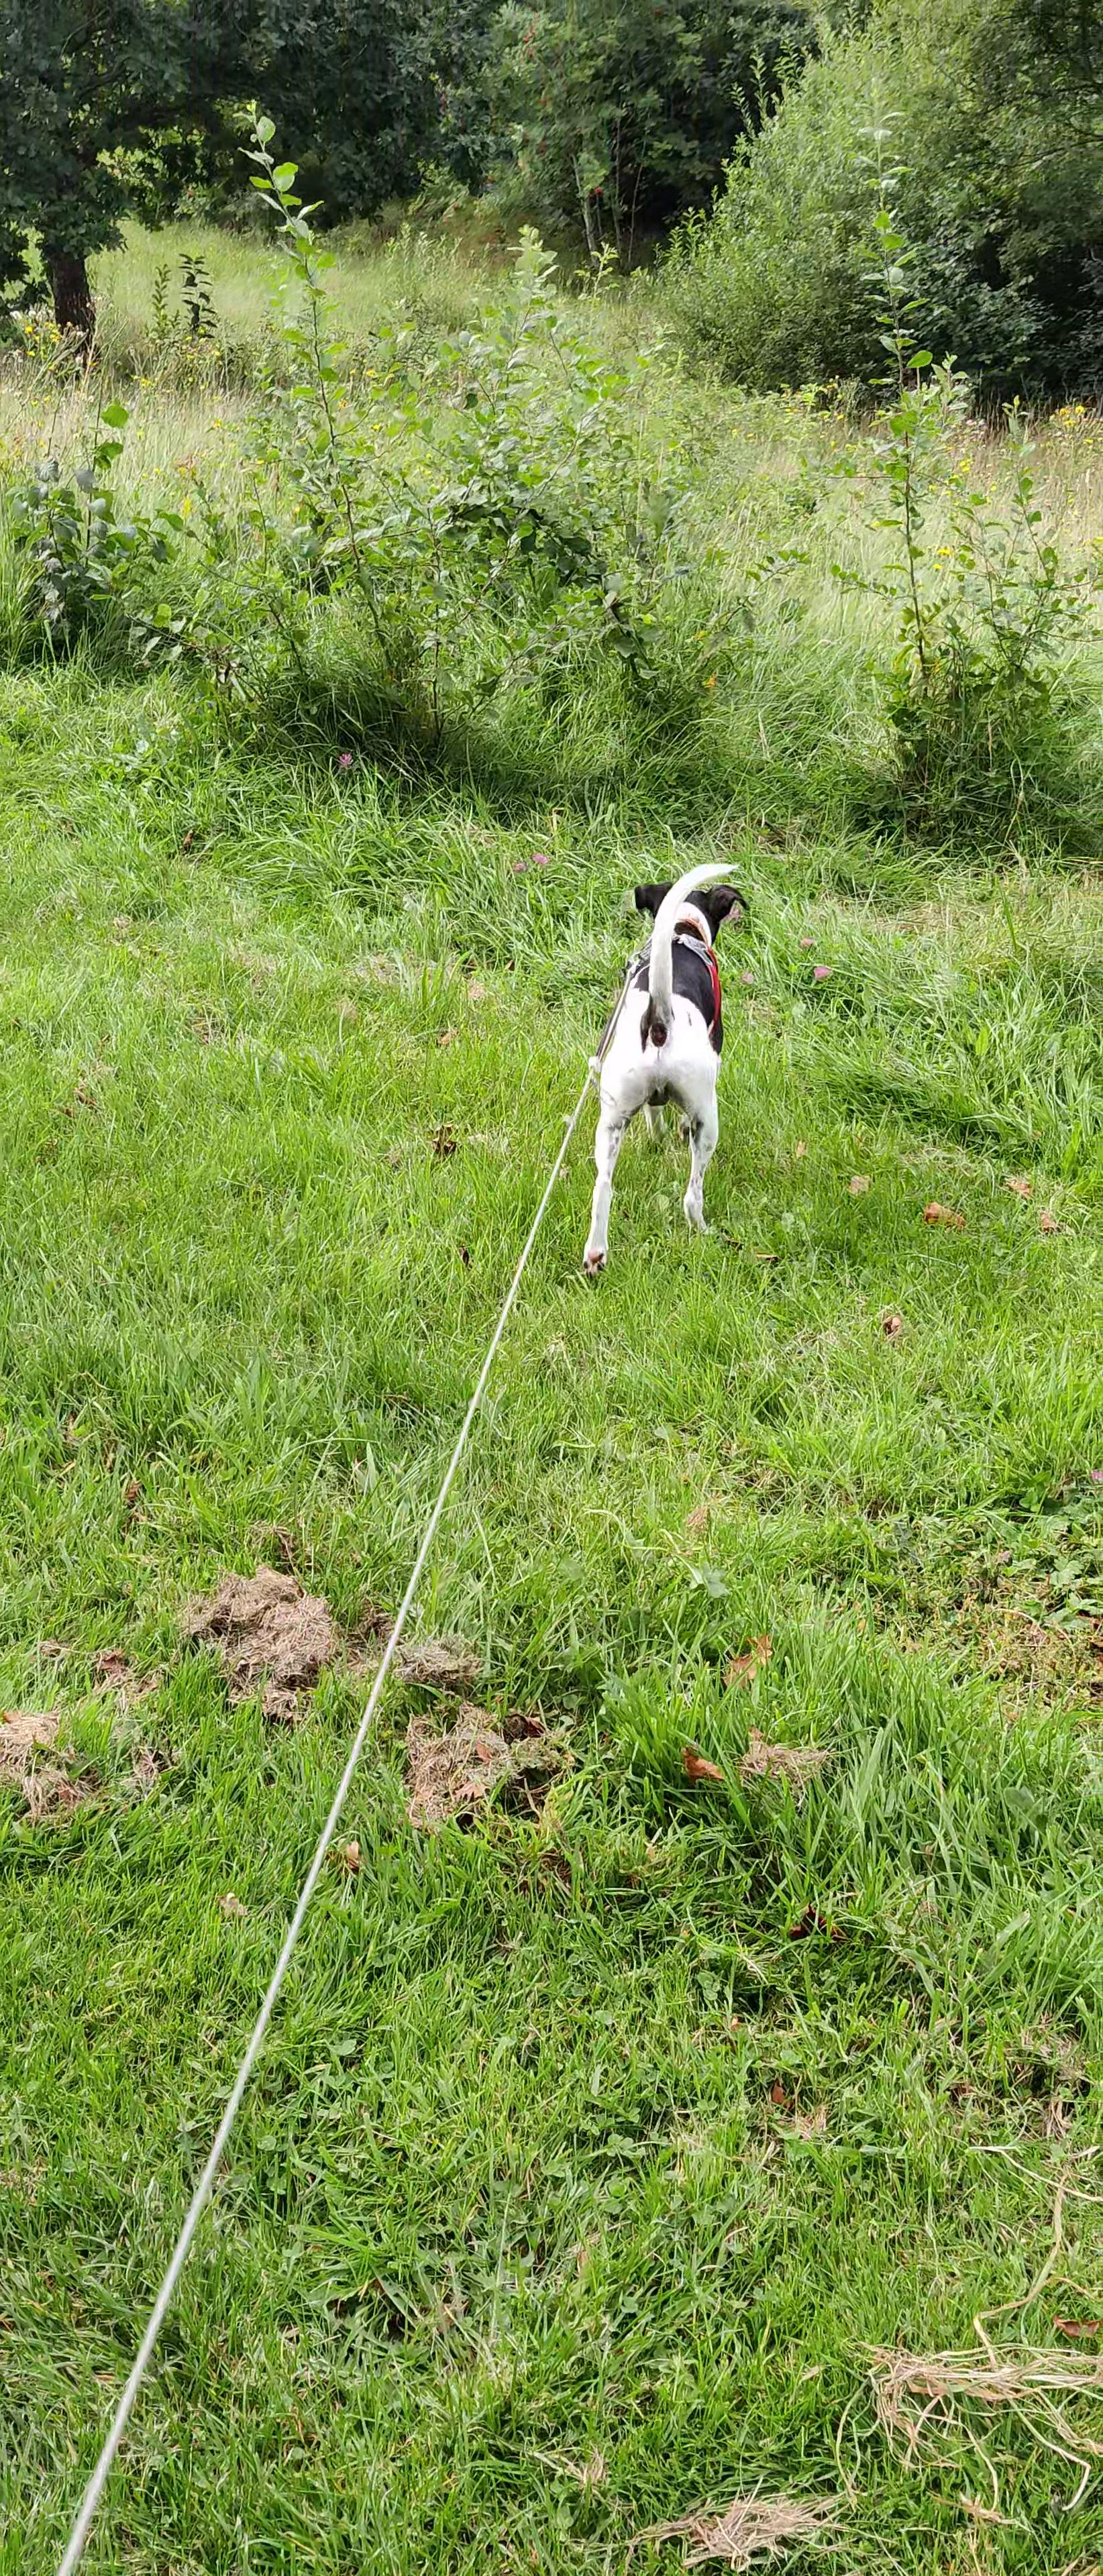Dog: (574, 856, 755, 1283)
